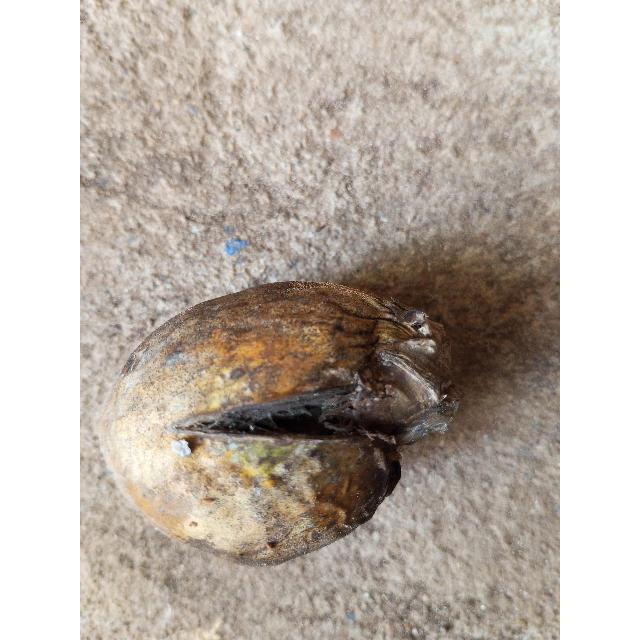damaged: (102, 282, 460, 564)
